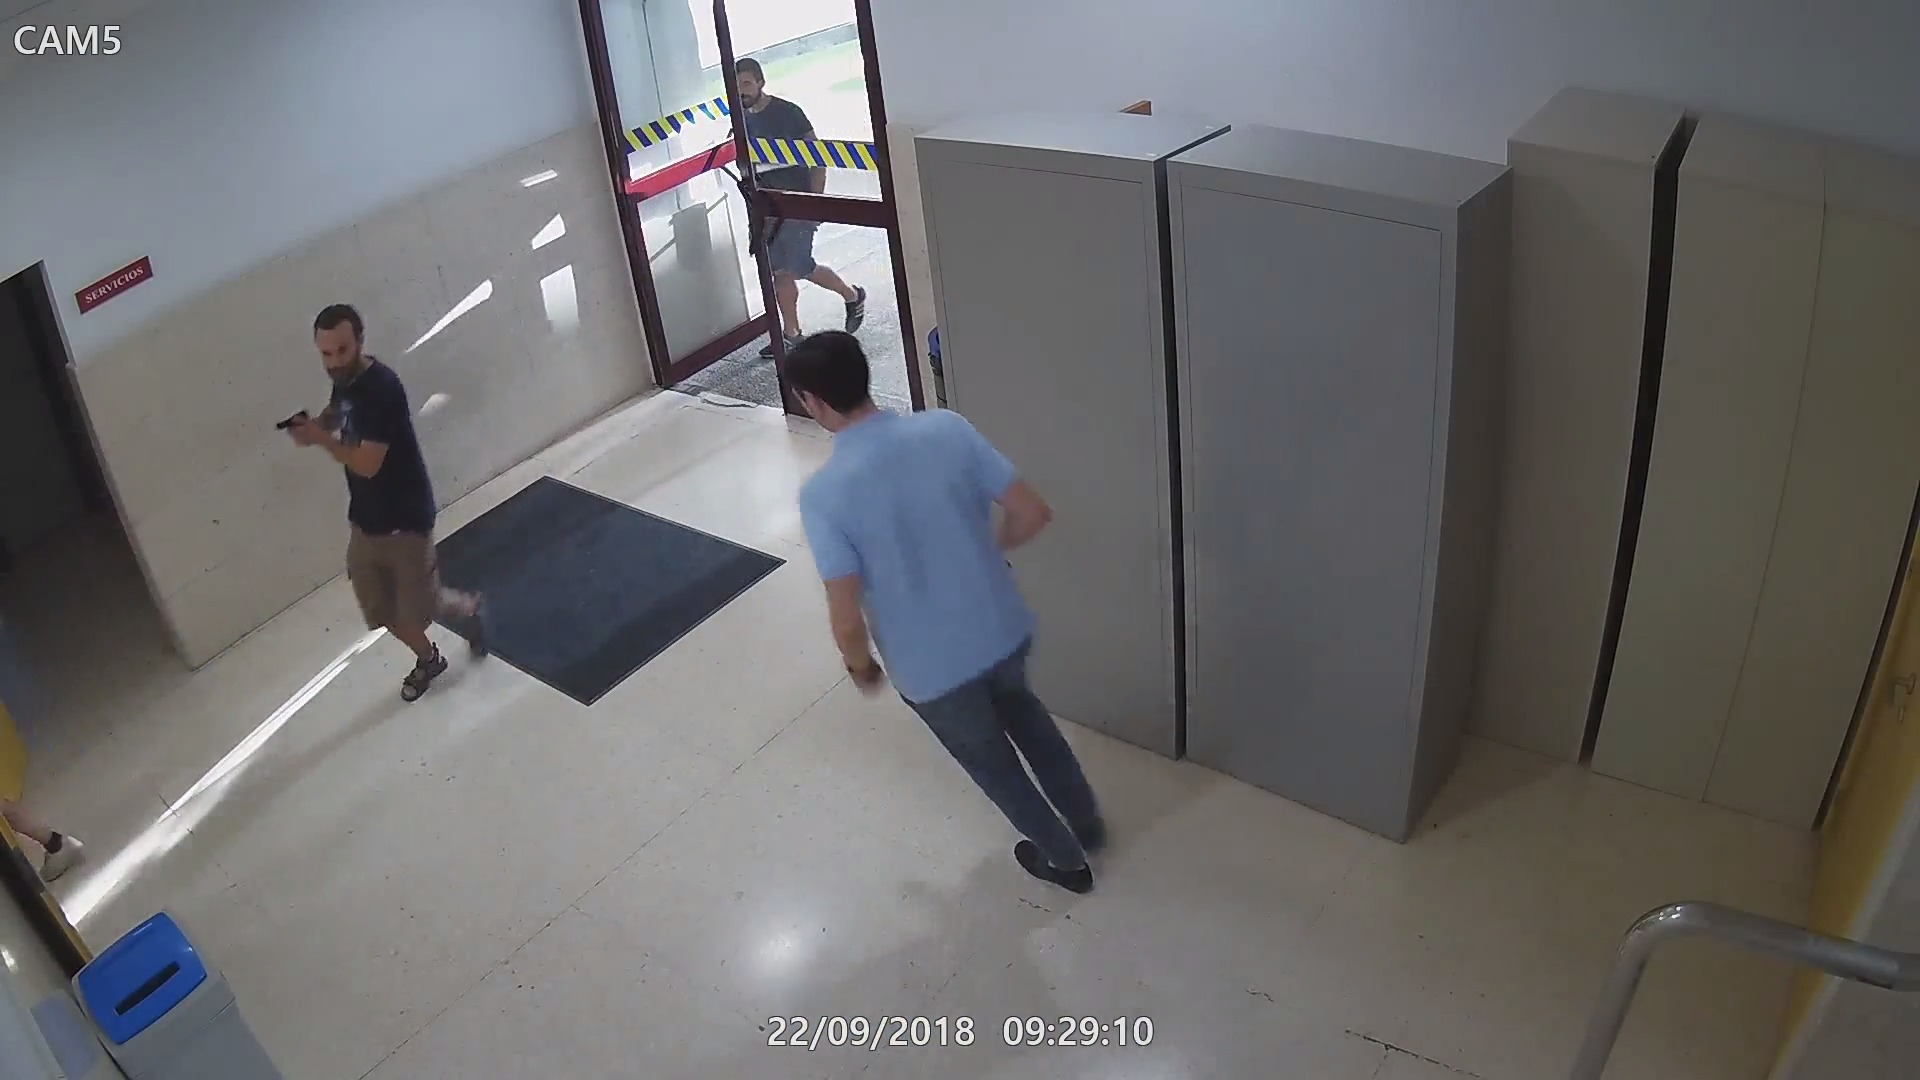Handgun: (272, 405, 316, 448)
